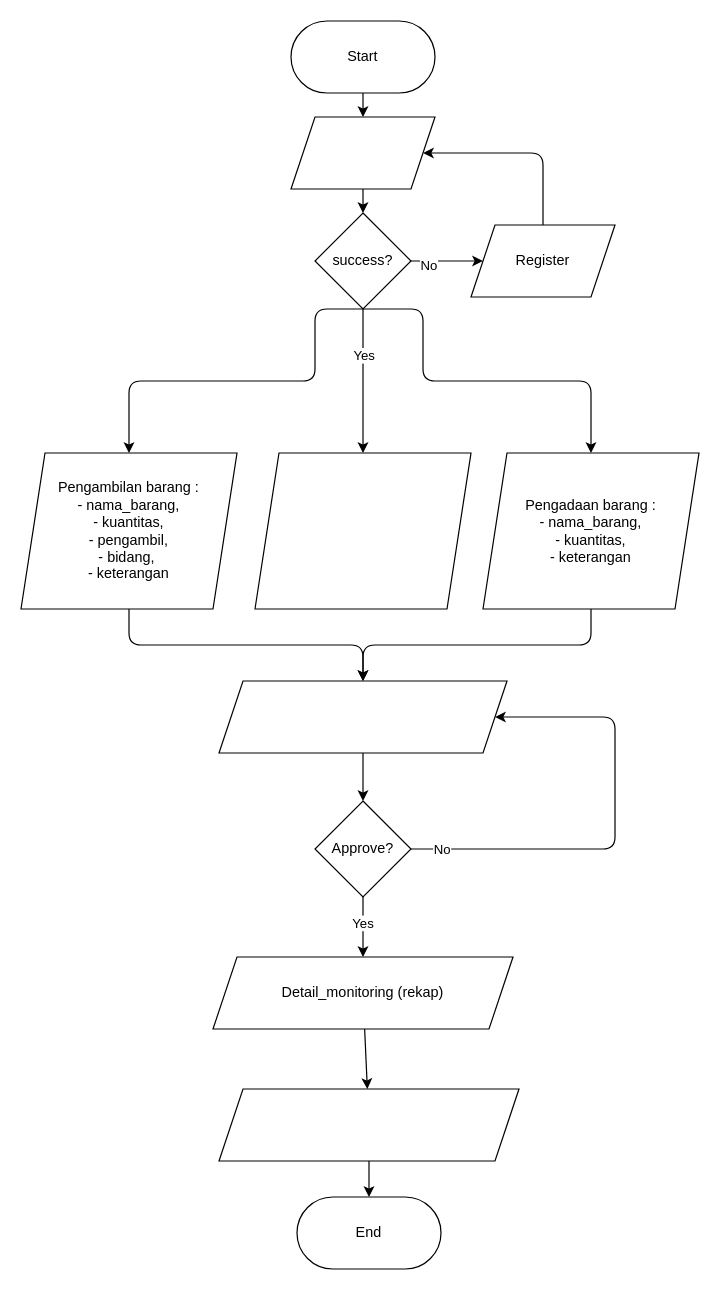
Some shapes in this 720 by 1290 pixel diagram are drawn without their labels. The centre of each missing label's shape, as x and y in pixels:
"Approval monitoring" belongs at point (362, 716).
"Input data barang : - nama, -satuan, - harga, - stok, - jenis, - foto" belongs at point (362, 530).
"Input login : - username - password" belongs at point (362, 152).
"laporan_triwulan_barang" belongs at point (368, 1124).
